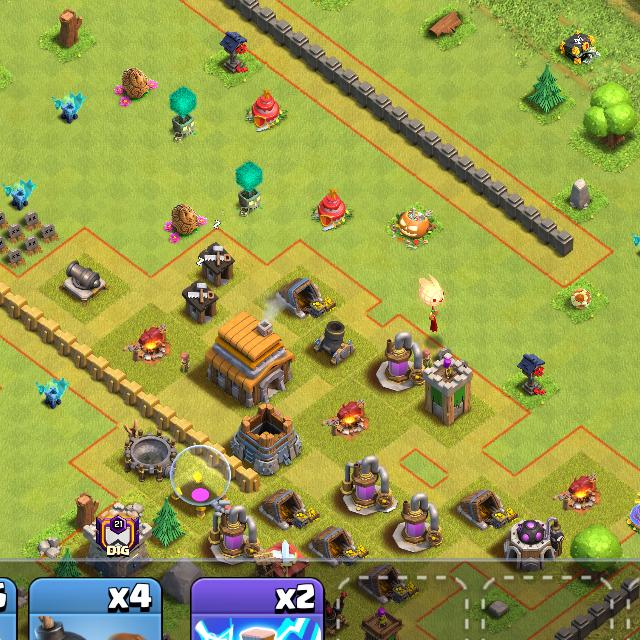Arqueira: (423, 355, 475, 424)
Canhao: (58, 259, 110, 303)
